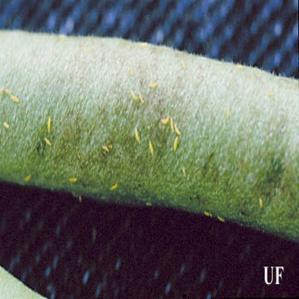melon thrips: (130, 124, 150, 152), (94, 142, 115, 166), (160, 112, 181, 135), (140, 134, 158, 158), (169, 132, 186, 156), (38, 132, 58, 152), (5, 89, 24, 110), (144, 72, 160, 96), (130, 87, 144, 110), (38, 116, 58, 132), (66, 167, 80, 188), (106, 178, 122, 196), (2, 115, 13, 134), (199, 206, 215, 218), (20, 176, 35, 186)
